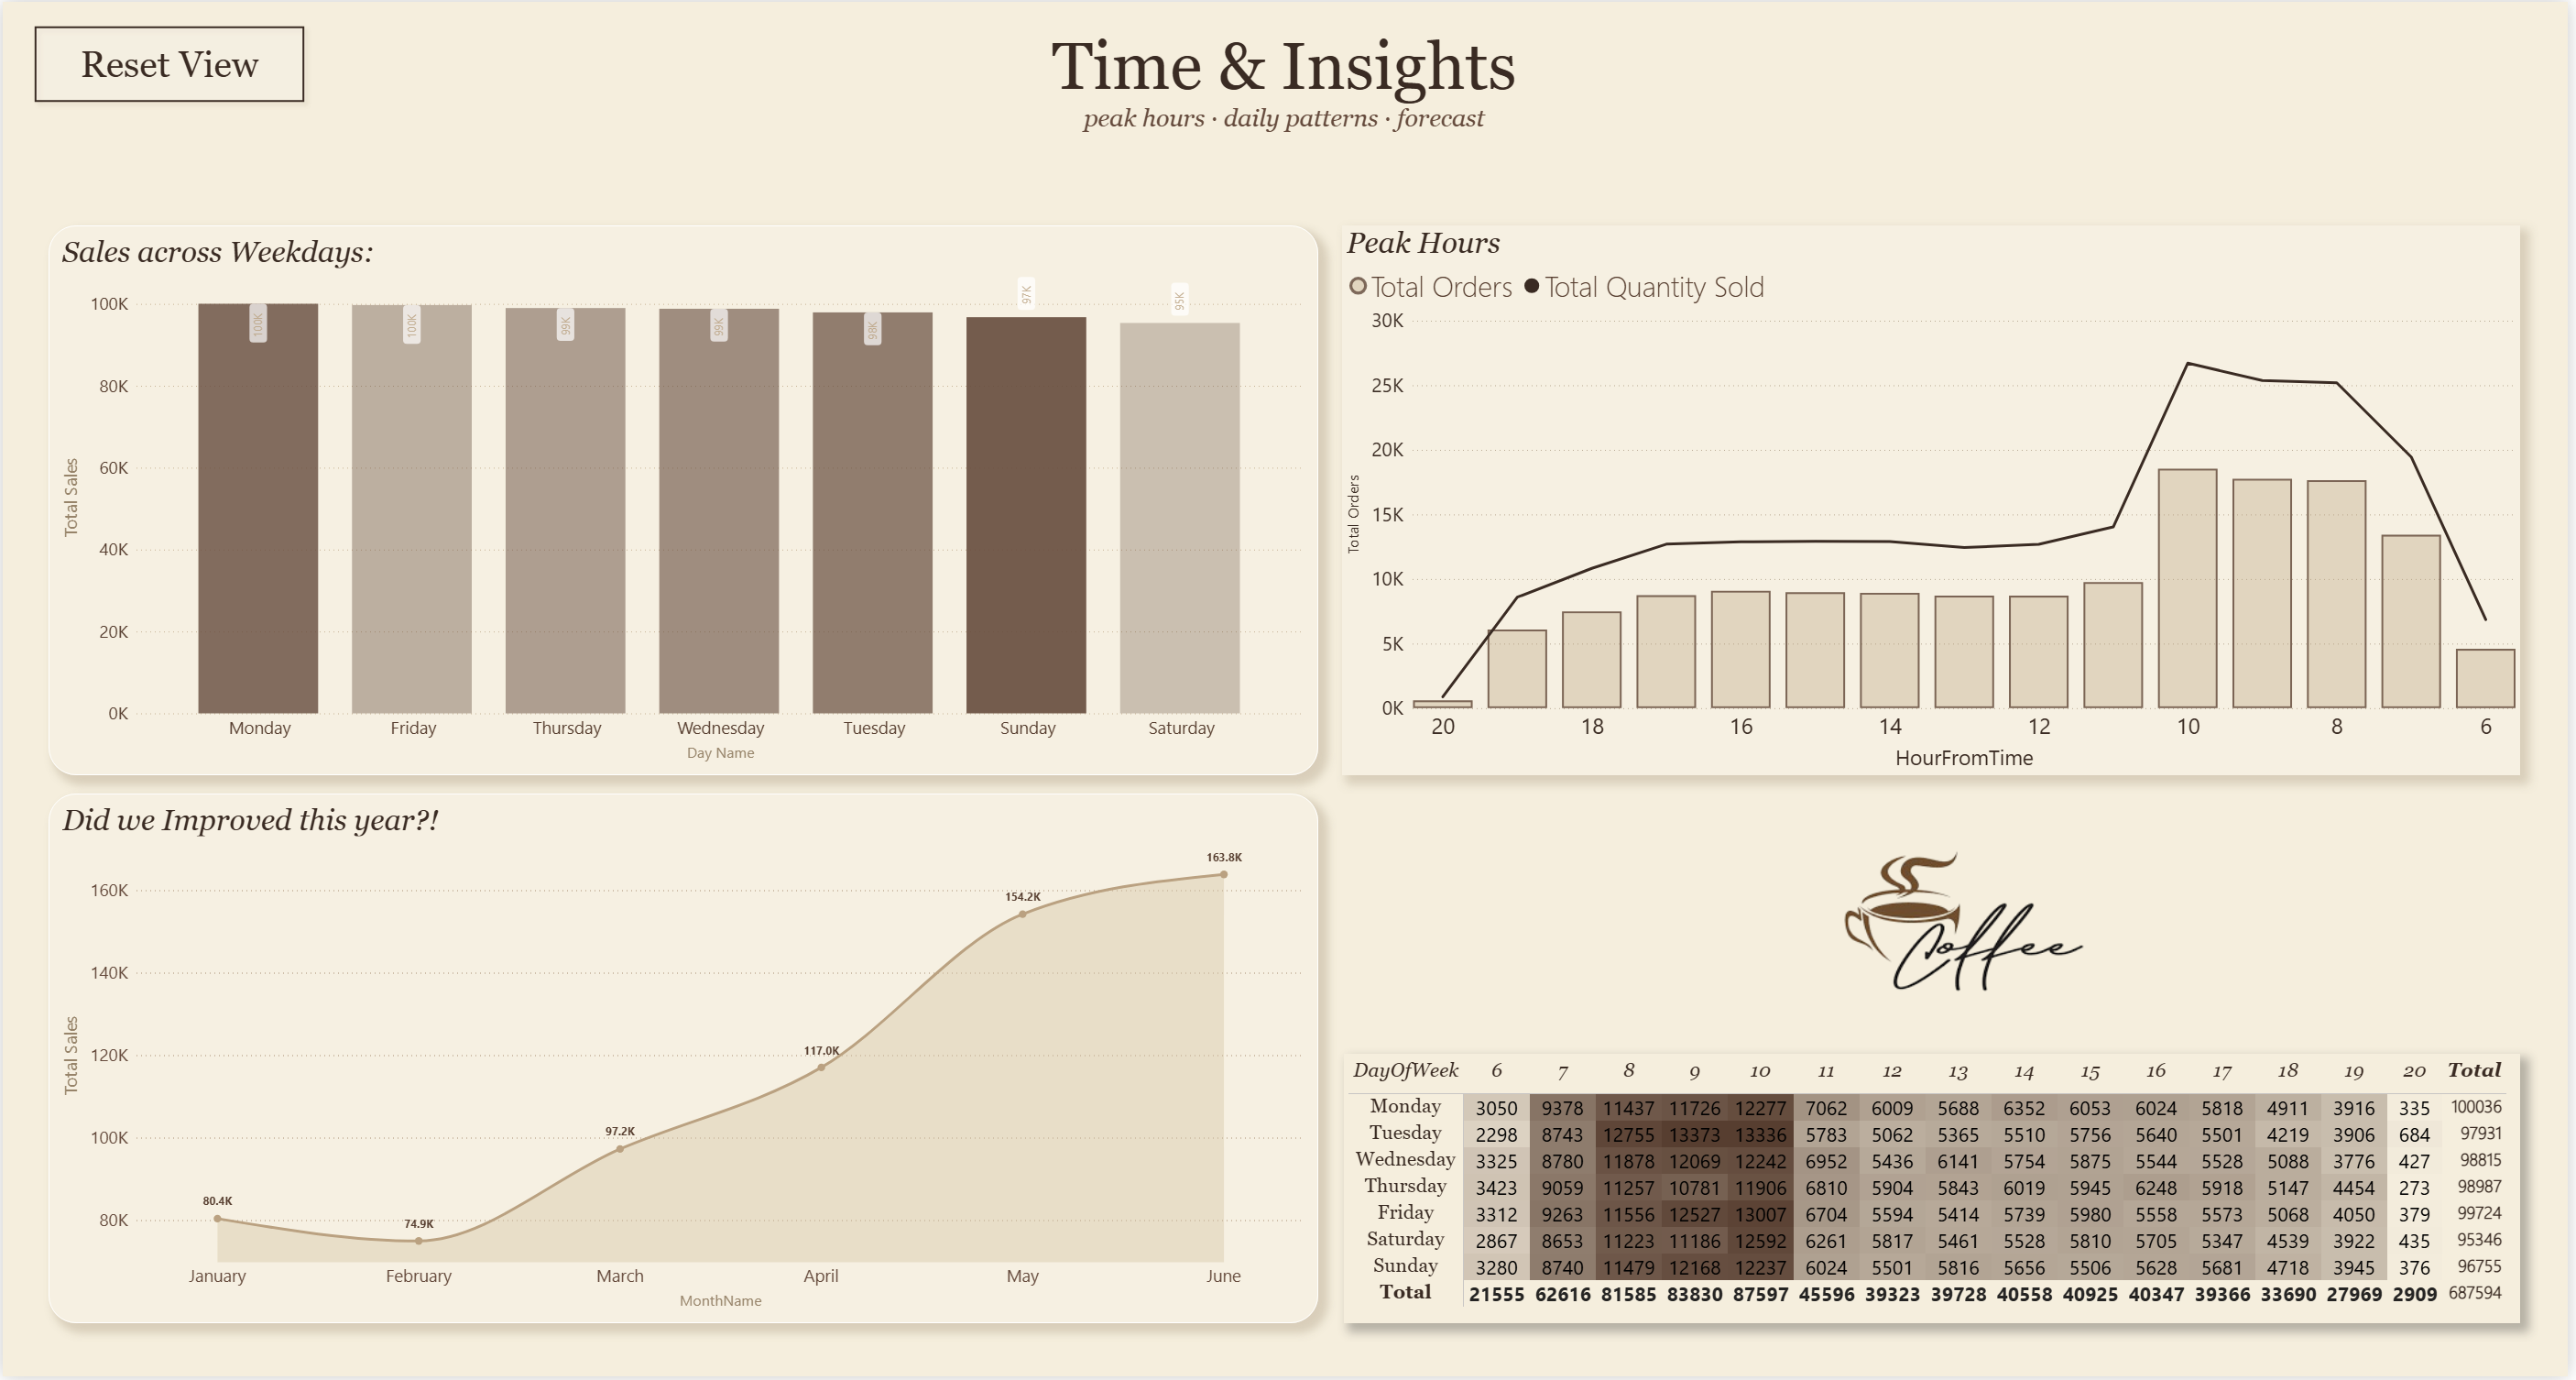

The page's visual inventory and layout, read from the dashboard file:
{"tool":"powerbi","page":{"name":"Time & Insights","canvas":[2800,1500],"ordinal":4},"visuals":[{"type":"image","box":[1944,878,394,250],"z":0},{"type":"actionButton","box":[26,18,312,100],"z":1000},{"type":"textbox","box":[854,24,1090,150],"z":2000},{"type":"pivotTable","fields":{"Rows":["DimDate.DayOfWeek"],"Columns":["Project.Hour"],"Values":["Project.Total Sales"]},"box":[1464,1148,1284,294],"z":3000},{"type":"lineChart","title":"Did we Improved this year?!","fields":{"Category":["DimDate.MonthName"],"Y":["Project.Total Sales"]},"box":[50,864,1386,578],"z":4000},{"type":"lineStackedColumnComboChart","title":"Sales across Weekdays:","fields":{"Category":["Project.Day Name"],"Y":["Project.Total Sales"]},"box":[50,244,1386,600],"z":5000},{"type":"lineStackedColumnComboChart","title":"Peak Hours","fields":{"Y":["Project.Total Orders"],"Y2":["Project.Total Quantity Sold"],"Category":["Project.HourFromTime"]},"box":[1462,244,1286,600],"z":6000}]}

Visuals, with their boxes in screenshot pixels (x1, y1, x2, y2), scaled from the page's 2800x1500 canvas onto the 2576x1380 screenshot:
image: detection(1788, 808, 2151, 1038)
actionButton: detection(24, 16, 311, 108)
textbox: detection(786, 22, 1788, 160)
pivotTable - DimDate.DayOfWeek x Project.Hour: detection(1347, 1057, 2528, 1327)
"Did we Improved this year?!" lineChart: detection(46, 794, 1321, 1327)
"Sales across Weekdays:" lineStackedColumnComboChart: detection(46, 225, 1321, 776)
"Peak Hours" lineStackedColumnComboChart: detection(1345, 225, 2528, 776)
